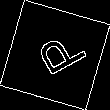P_SW: (24, 27, 86, 83)
